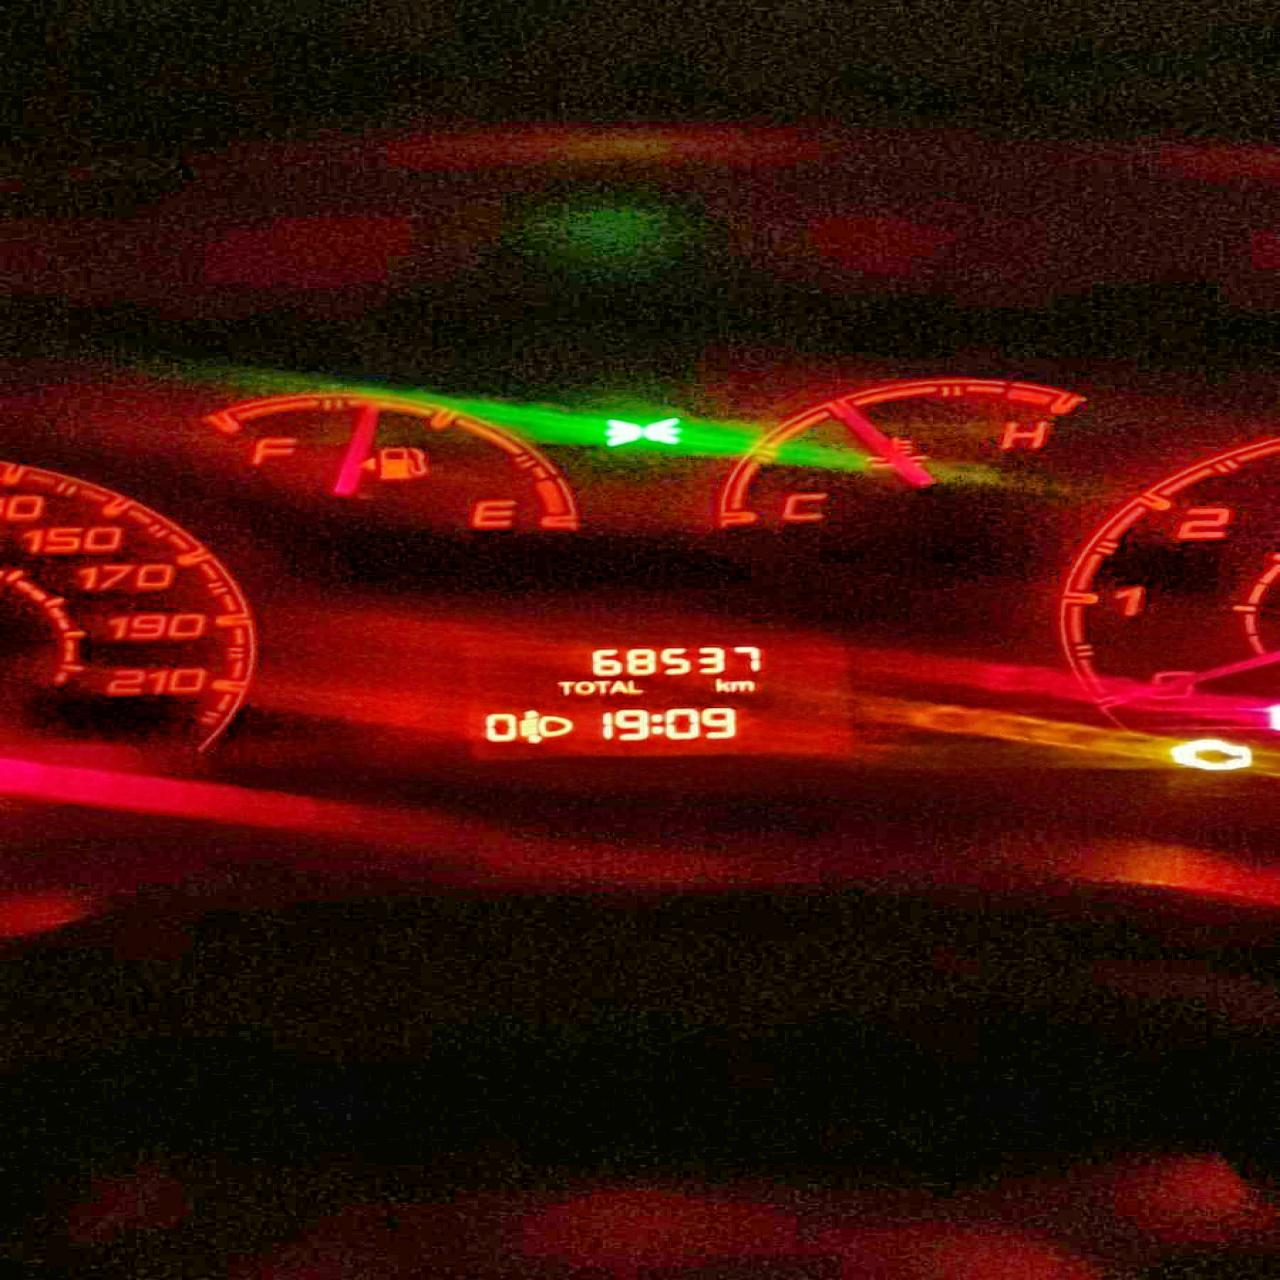0: (666, 707, 700, 740), (482, 713, 516, 742)
1: (599, 709, 612, 742)
3: (696, 644, 728, 675)
5: (659, 646, 692, 675)
6: (588, 647, 621, 676)
7: (734, 644, 760, 672)
8: (625, 647, 656, 675)
9: (612, 707, 651, 741), (700, 706, 736, 741)
X: (647, 712, 666, 737), (554, 679, 574, 696), (573, 679, 594, 695), (710, 678, 731, 693), (731, 679, 754, 692), (608, 680, 628, 694), (626, 680, 645, 694), (593, 680, 610, 694)
odometer: (441, 628, 872, 760)
